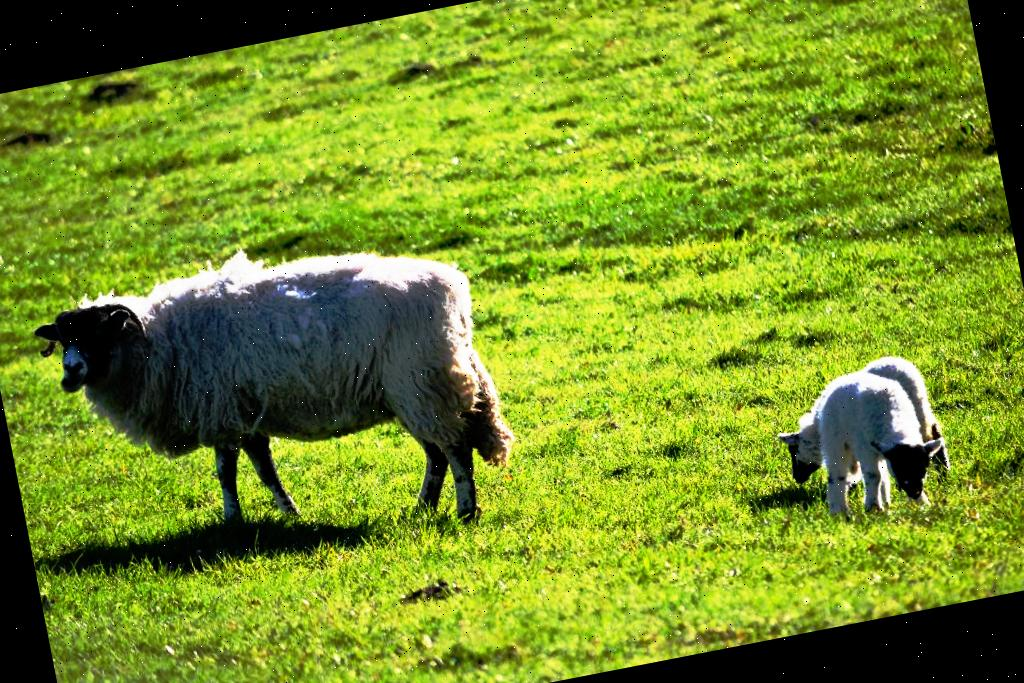Sheep: (23, 196, 529, 602), (766, 349, 954, 531), (805, 359, 955, 524)
